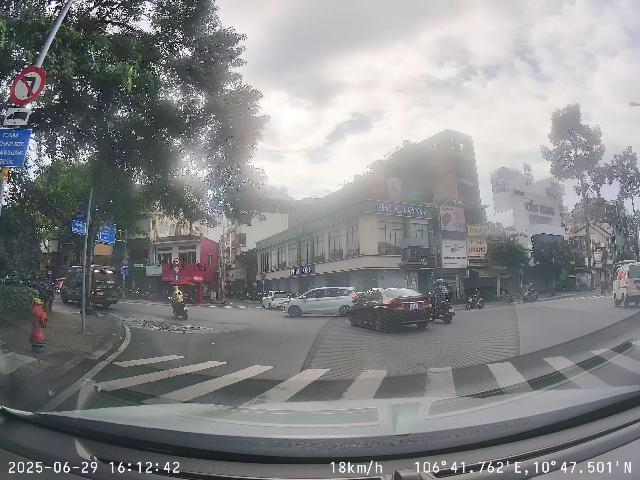123a-cam-re-trai: (10, 66, 46, 105)
